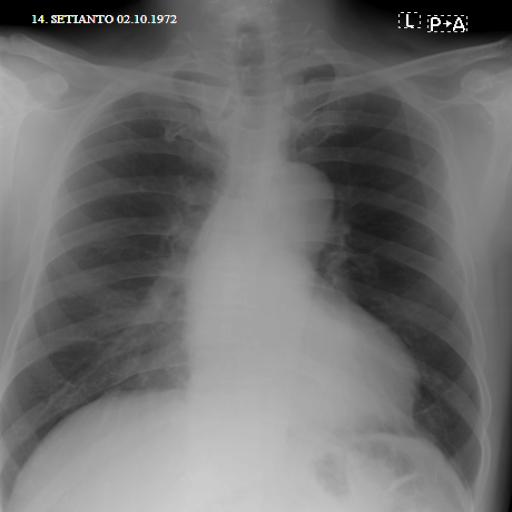kardiomegali: (0, 34, 493, 494)
